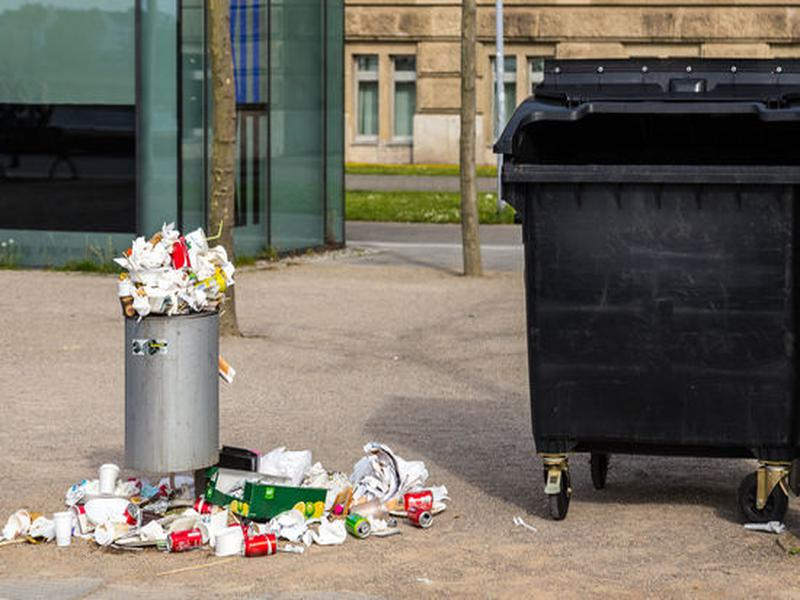can: (162, 526, 211, 558), (237, 532, 281, 562), (345, 509, 379, 543)
cardboard: (200, 465, 331, 522)
cup: (48, 508, 78, 550), (92, 459, 123, 497)
paper: (345, 443, 437, 495)
